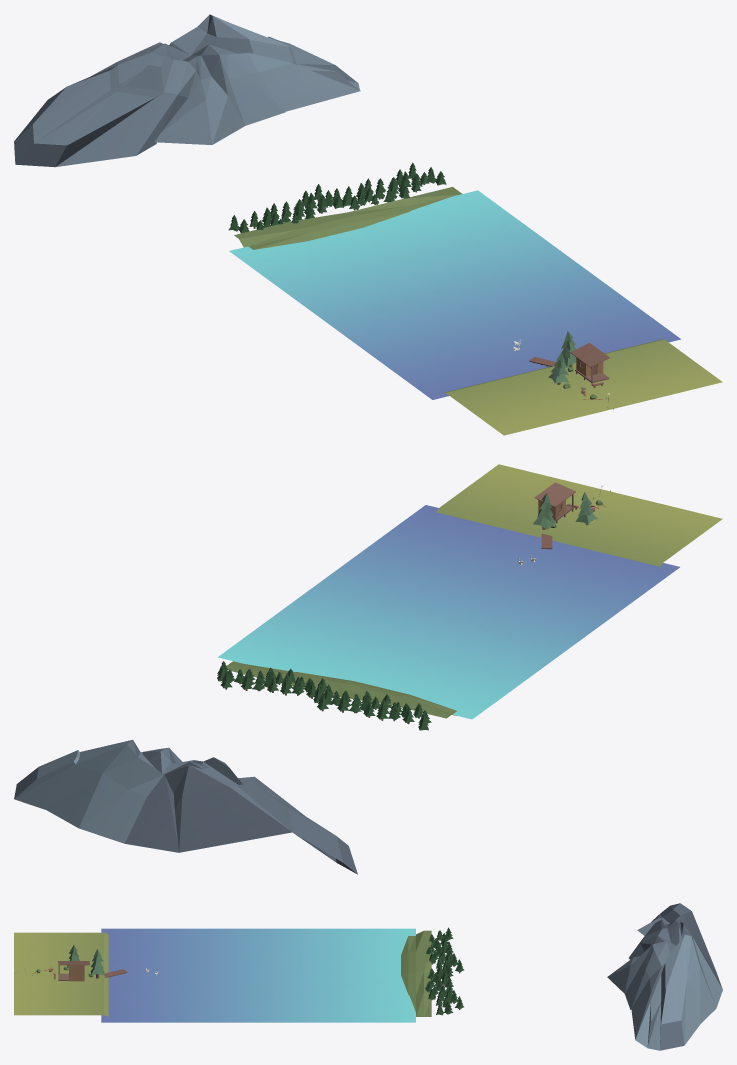
Rendered from swanpc.fbx.
3 views of the same model, one above another, from view 1: azimuth 30°, elevation 25°; view 2: azimuth 150°, elevation 25°; view 3: azimuth 270°, elevation 25° (orthographic). The views are drawn at different scales.
Parts seen in each view (by area): view 1: Water, Ground swancp.001, Ground swancp.002, Ground swancp, Home; view 2: Water, Ground swancp.001, Ground swancp.002, Ground swancp, Home; view 3: Water, Ground swancp.001, Ground swancp.002, Ground swancp, Home, Tree.004.
Boxes of the visible parts, x1=… form: Water: x1=229, y1=190, x2=680, y2=399; Ground swancp.001: x1=14, y1=14, x2=360, y2=167; Ground swancp.002: x1=234, y1=187, x2=722, y2=435; Ground swancp: x1=228, y1=162, x2=446, y2=233; Home: x1=570, y1=342, x2=609, y2=385; Water: x1=218, y1=505, x2=679, y2=719; Ground swancp.001: x1=14, y1=739, x2=357, y2=874; Ground swancp.002: x1=226, y1=464, x2=722, y2=718; Ground swancp: x1=217, y1=661, x2=431, y2=730; Home: x1=534, y1=482, x2=575, y2=523; Water: x1=101, y1=928, x2=415, y2=1022; Ground swancp.001: x1=607, y1=903, x2=722, y2=1050; Ground swancp.002: x1=14, y1=930, x2=431, y2=1016; Ground swancp: x1=425, y1=927, x2=464, y2=1015; Home: x1=58, y1=961, x2=89, y2=981; Tree.004: x1=90, y1=949, x2=104, y2=978.
Size of the model in its own units: 38.95 by 10.15 by 91.4.
